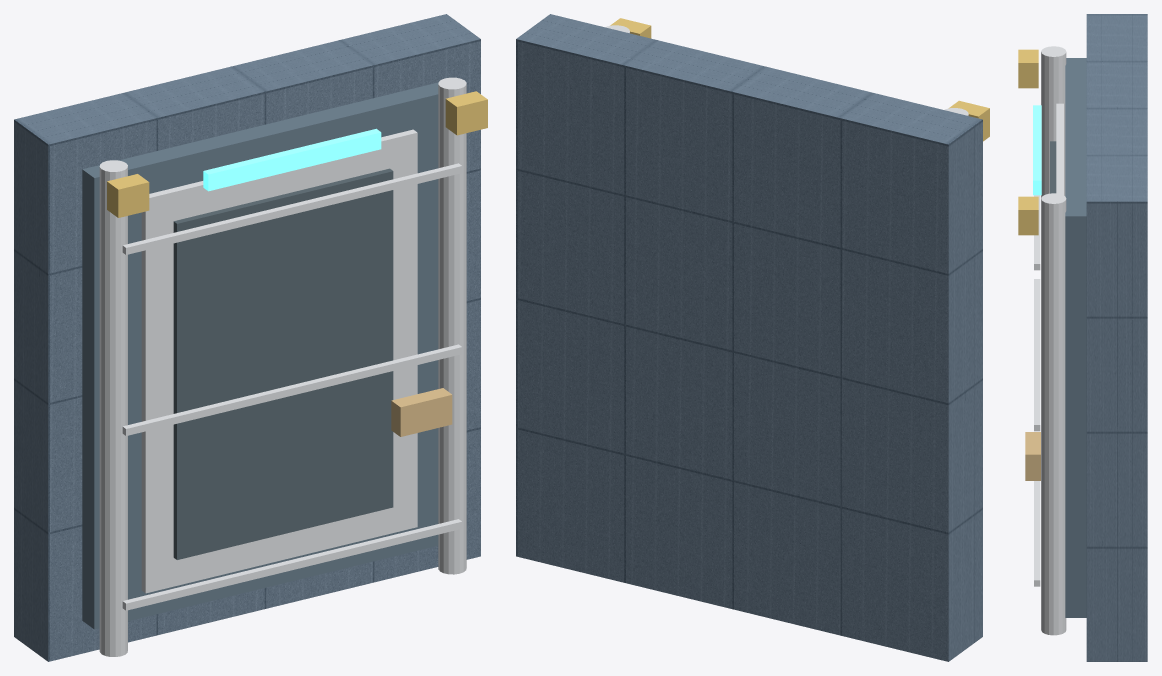
Rendered from airlock_door_3m.glb.
The picture shows the model from 3 angles, left to right: view 1: azimuth 30°, elevation 25°; view 2: azimuth 150°, elevation 25°; view 3: azimuth 270°, elevation 25°; orthographic projection. The views are drawn at different scales.
Visible parts, largest first — view 1: airlock_door_3m_000, airlock_door_3m_003, airlock_door_3m_001, airlock_door_3m_002, airlock_door_3m_004, airlock_door_3m_006, airlock_door_3m_011, airlock_door_3m_010, airlock_door_3m_008, airlock_door_3m_009, airlock_door_3m_012, airlock_door_3m_005 (+1 smaller); view 2: airlock_door_3m_000; view 3: airlock_door_3m_000, airlock_door_3m_001, airlock_door_3m_006, airlock_door_3m_004, airlock_door_3m_009, airlock_door_3m_005, airlock_door_3m_007, airlock_door_3m_011, airlock_door_3m_012, airlock_door_3m_008, airlock_door_3m_002, airlock_door_3m_010 (+1 smaller).
Boxes of the visible parts, x1,y1,x2,y2 form: airlock_door_3m_000: (14,14,480,661); airlock_door_3m_003: (173,168,393,559); airlock_door_3m_001: (82,82,438,629); airlock_door_3m_002: (141,129,417,593); airlock_door_3m_004: (99,160,127,656); airlock_door_3m_006: (438,77,466,574); airlock_door_3m_011: (203,128,381,191); airlock_door_3m_010: (122,163,462,254); airlock_door_3m_008: (122,519,462,610); airlock_door_3m_009: (122,344,462,435); airlock_door_3m_012: (391,388,452,436); airlock_door_3m_005: (107,174,149,217); airlock_door_3m_000: (516,14,982,661); airlock_door_3m_000: (1086,14,1147,661); airlock_door_3m_001: (1065,58,1086,617); airlock_door_3m_006: (1041,193,1066,635); airlock_door_3m_004: (1041,46,1066,198); airlock_door_3m_009: (1034,279,1040,431); airlock_door_3m_005: (1018,49,1038,88); airlock_door_3m_007: (1018,196,1038,235); airlock_door_3m_011: (1033,105,1041,195); airlock_door_3m_012: (1025,432,1040,480); airlock_door_3m_008: (1034,481,1040,586); airlock_door_3m_002: (1056,103,1063,195); airlock_door_3m_010: (1034,195,1040,270).
Bounding box in the file's own units: 3.5 × 4 × 1.02.
7 materials, 1 textured.
